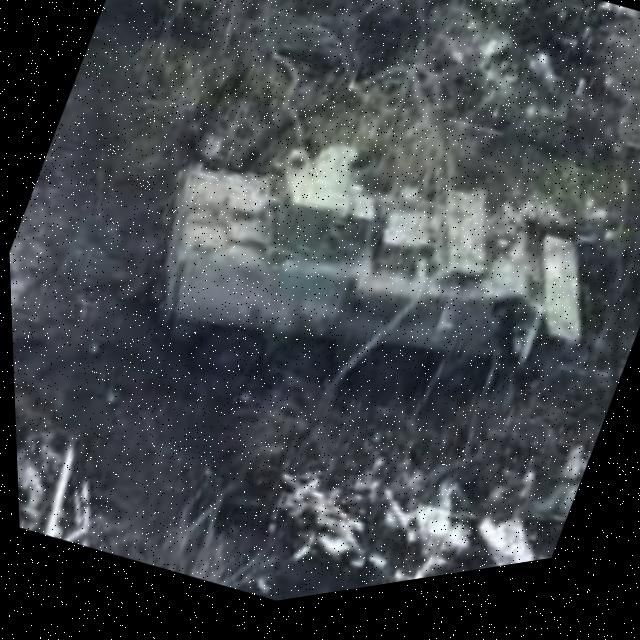MIL_APC: (101, 36, 640, 518)
